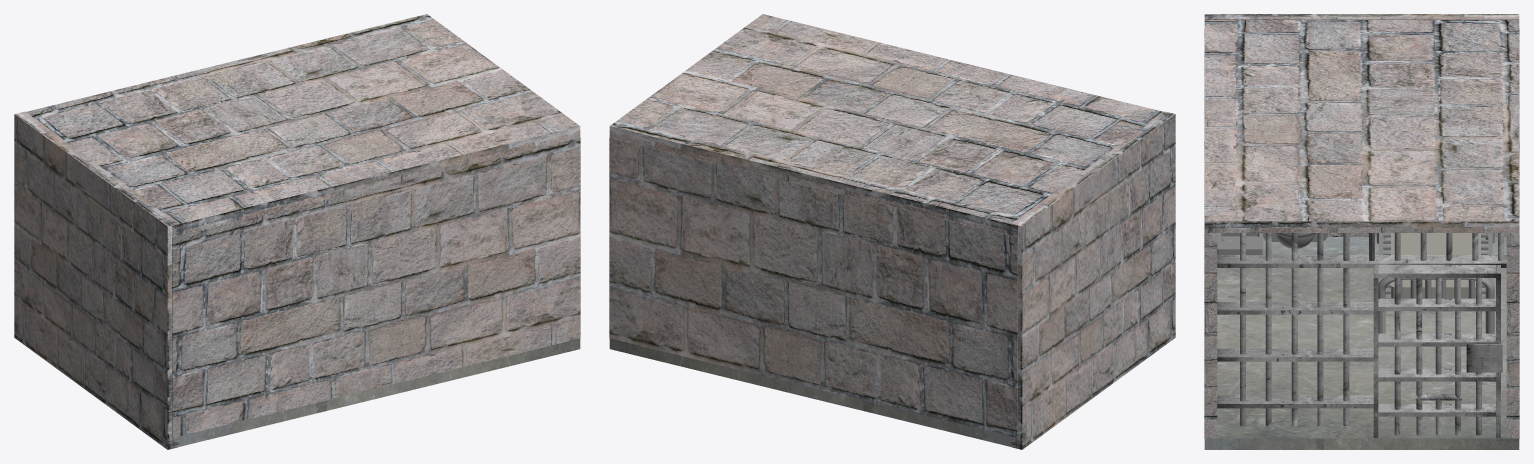
File: Cell Closed.fbx
3 views of the same model, side by side, from view 1: azimuth 30°, elevation 25°; view 2: azimuth 150°, elevation 25°; view 3: azimuth 270°, elevation 25° (orthographic). The views are drawn at different scales.
Parts seen in each view (by area): view 1: polySurface89, polySurface33, polySurface92, polySurface93; view 2: polySurface94, polySurface33, polySurface92, polySurface93; view 3: polySurface33, polySurface93, pasted__pasted__pasted__pCube4 (×4), polySurface168, pasted__pasted__pasted__pasted__pasted__pasted__pasted__past (×5), polySurface89, polySurface94, polySurface16, pasted__pasted__pasted__pasted__pasted__pCube4 (×2), pasted__pasted__pasted__pasted__pCube4 (×2), polySurface92, polySurface29 (+8 smaller).
Part boxes in pixels (bbox=[...]): polySurface89: bbox=[172, 137, 580, 437]; polySurface33: bbox=[26, 14, 580, 236]; polySurface92: bbox=[14, 111, 178, 449]; polySurface93: bbox=[172, 338, 580, 446]; polySurface94: bbox=[609, 137, 1017, 437]; polySurface33: bbox=[609, 14, 1163, 236]; polySurface92: bbox=[1011, 111, 1175, 449]; polySurface93: bbox=[609, 338, 1017, 446]; polySurface33: bbox=[1204, 20, 1519, 232]; polySurface93: bbox=[1204, 237, 1519, 449]; pasted__pasted__pasted__pCube4 (×4): bbox=[1373, 265, 1500, 437]; polySurface168: bbox=[1376, 233, 1494, 333]; pasted__pasted__pasted__pasted__pasted__pasted__pasted__past (×5): bbox=[1394, 278, 1481, 435]; polySurface89: bbox=[1204, 28, 1217, 438]; polySurface94: bbox=[1506, 28, 1519, 438]; polySurface16: bbox=[1217, 255, 1506, 267]; pasted__pasted__pasted__pasted__pasted__pCube4 (×2): bbox=[1374, 368, 1498, 416]; pasted__pasted__pasted__pasted__pCube4 (×2): bbox=[1373, 265, 1502, 372]; polySurface92: bbox=[1204, 14, 1519, 236]; polySurface29: bbox=[1217, 395, 1373, 408].
Bounding box in the file's own units: 37.95 × 19.62 × 24.43.
